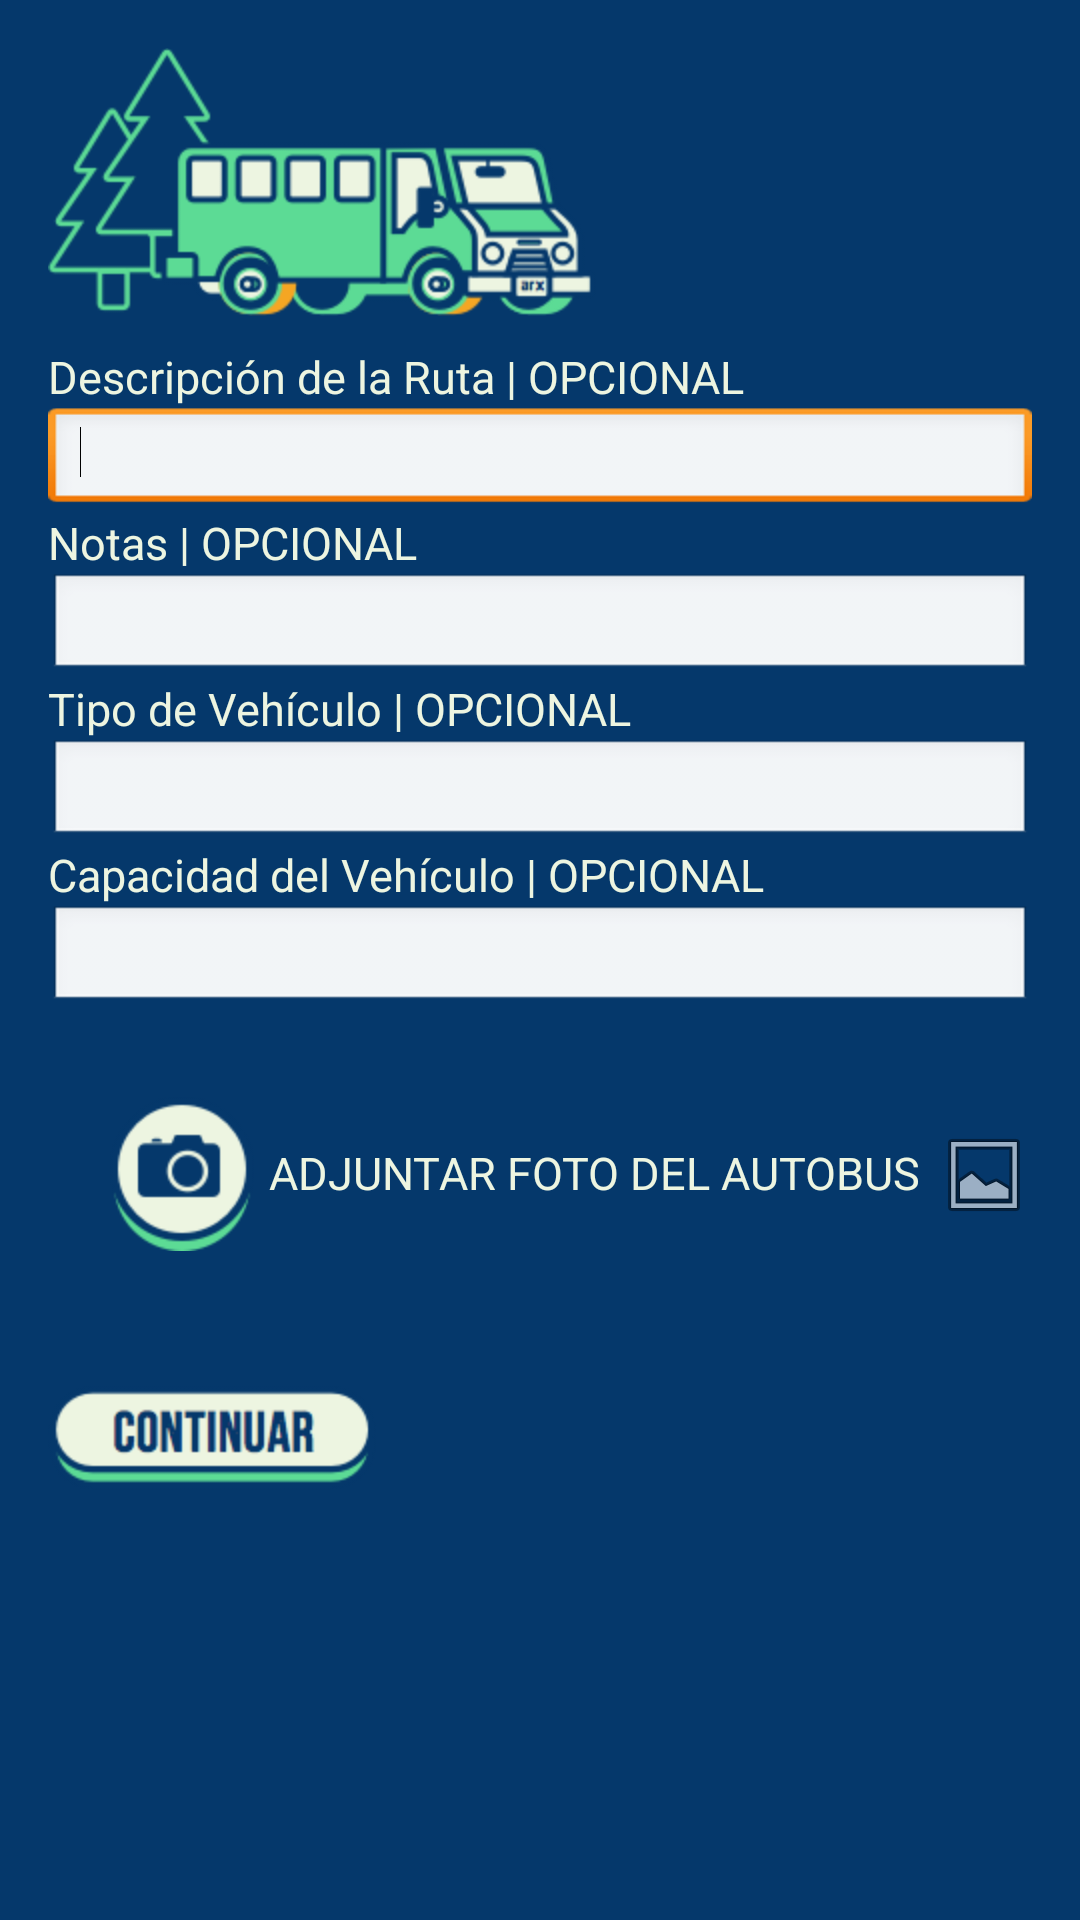

Icons on this 1080w x 1920h Android screen, each with its box as (x1, y1, x2, y2):
gallery: (948, 1139, 1020, 1211)
